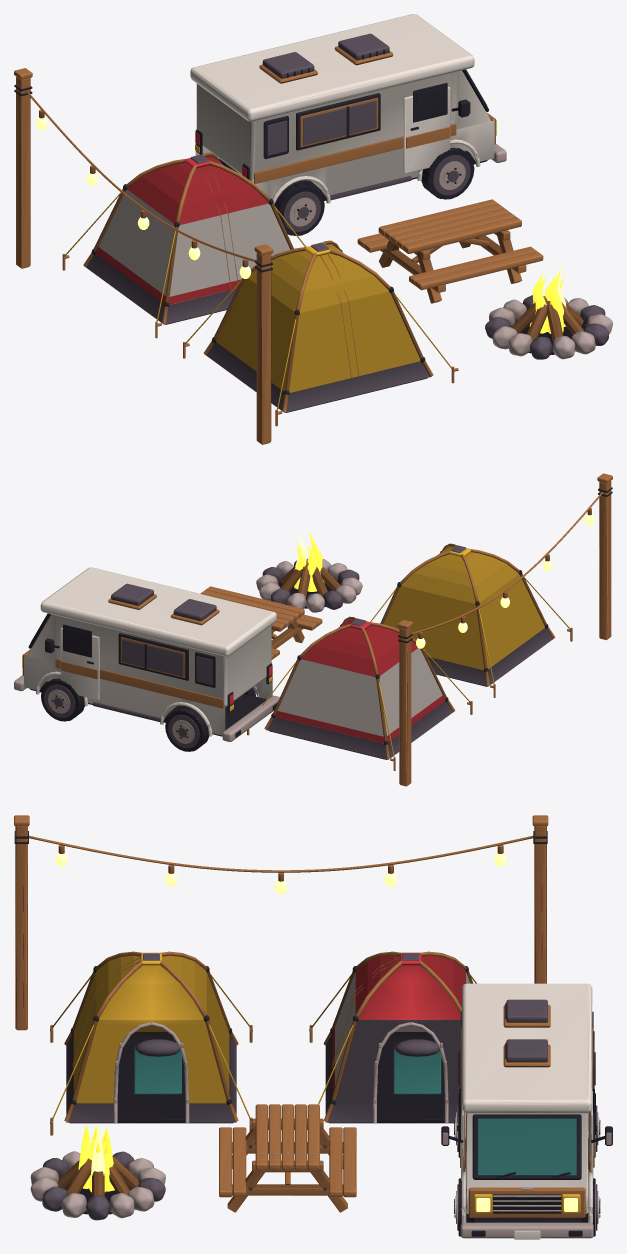
Rendered from kit.campground.glb.
3 renders of one model, top to bottom at view 1: azimuth 30°, elevation 25°; view 2: azimuth 150°, elevation 25°; view 3: azimuth 270°, elevation 25°, orthographic. The views are drawn at different scales.
Parts seen in each view (by area): view 1: object 5, door_R, wheelFR; view 2: object 5, door_L, wheelFL; view 3: object 5.
Part boxes in pixels (x1=…): object 5: x1=14, y1=14, x2=612, y2=444; door_R: x1=403, y1=82, x2=450, y2=173; wheelFR: x1=421, y1=147, x2=474, y2=199; object 5: x1=14, y1=473, x2=612, y2=786; door_L: x1=60, y1=624, x2=99, y2=699; wheelFL: x1=41, y1=678, x2=84, y2=721; object 5: x1=14, y1=815, x2=612, y2=1239.
Bounding box in the file's own units: 8.52 × 3.49 × 9.01.
